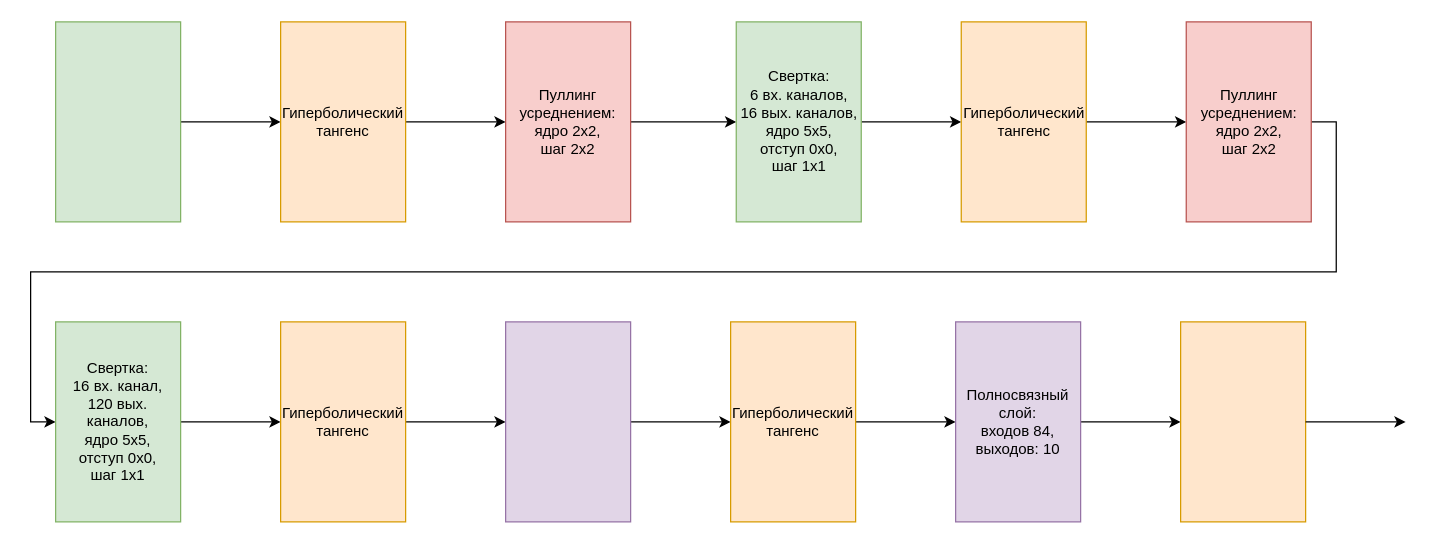
This 1438x544 diagram has some shape labels left out. The shapes that lost their labels are listed below. From the top down, each one's box as (x1, y1, x2, y2) in pixels, then its label:
(54, 21, 181, 222): Свертка: 1 вх. канал, 6 вых. каналов, ядро 5х5, отступ 2х2, шаг 1х1
(504, 321, 631, 522): Полносвязный слой: входов 120, выходов: 84
(1179, 321, 1306, 522): Softmax
